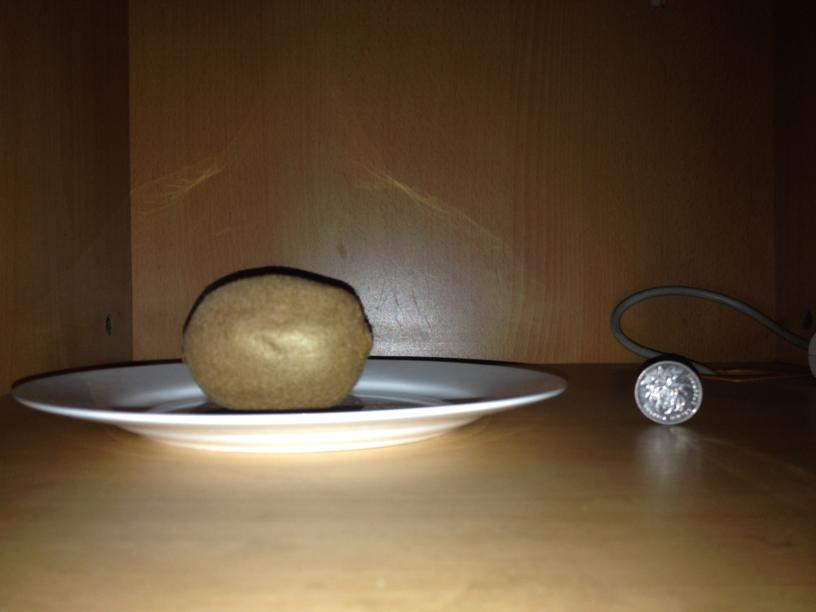coin: (632, 365, 707, 422)
qiwi: (657, 342, 732, 417)
